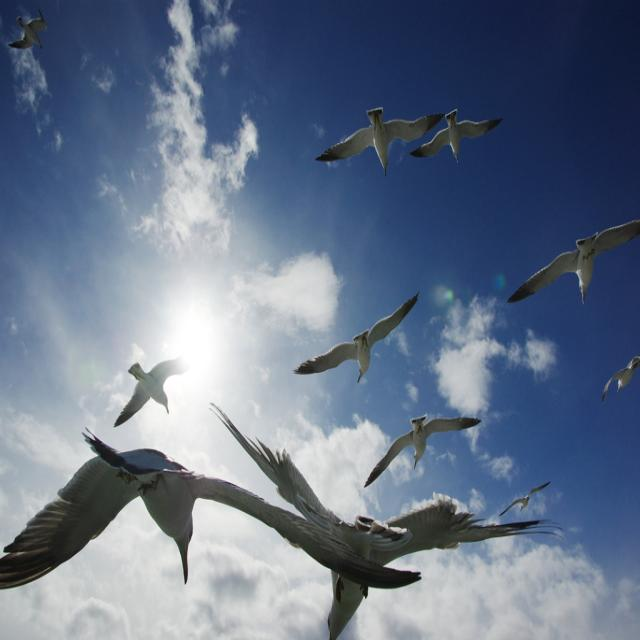bird: (1, 434, 423, 626), (289, 293, 423, 387), (503, 222, 640, 304), (309, 103, 437, 180), (358, 413, 487, 487), (412, 99, 500, 163), (119, 354, 186, 430), (495, 478, 550, 526), (600, 354, 640, 402), (7, 10, 48, 54)
